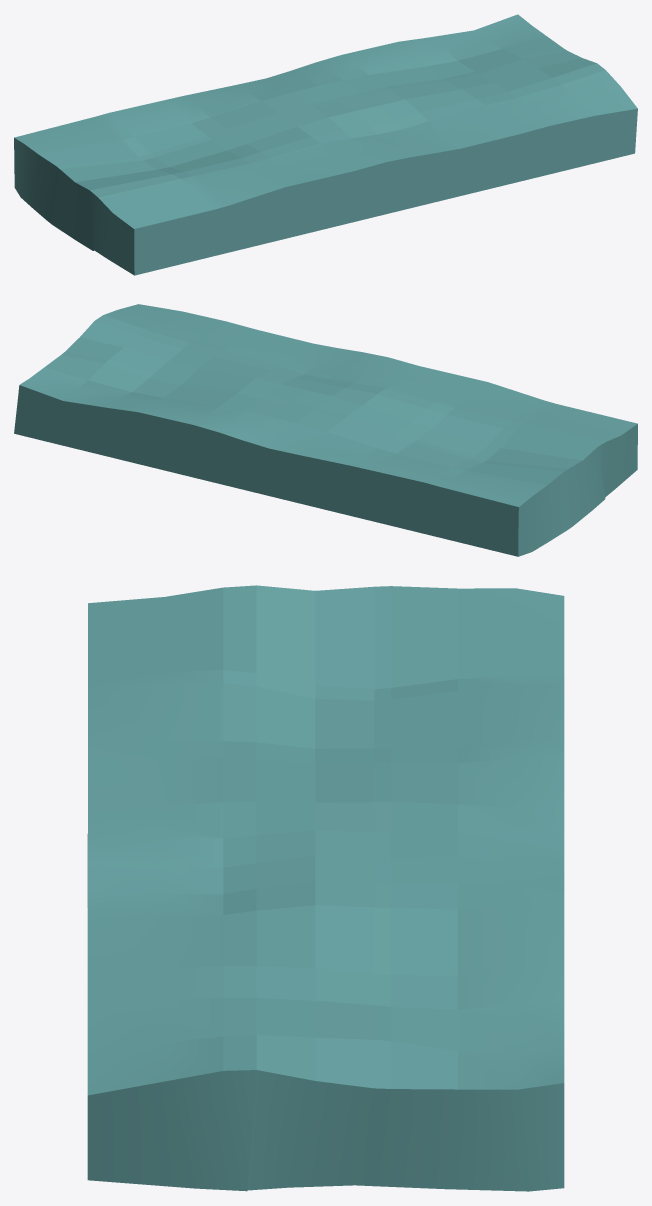
File: tile acqua.fbx
The picture shows the model from 3 angles, top to bottom: view 1: azimuth 30°, elevation 25°; view 2: azimuth 150°, elevation 25°; view 3: azimuth 270°, elevation 25°; orthographic projection. The views are drawn at different scales.
Visible parts, largest first — view 1: pPlane1; view 2: pPlane1; view 3: pPlane1.
Boxes of the visible parts, box(x1,y1,x2,y2) form: pPlane1: box(14, 14, 637, 275); pPlane1: box(14, 304, 637, 556); pPlane1: box(87, 585, 564, 1191).
Bounding box in the file's own units: 5101 × 559 × 2050.
